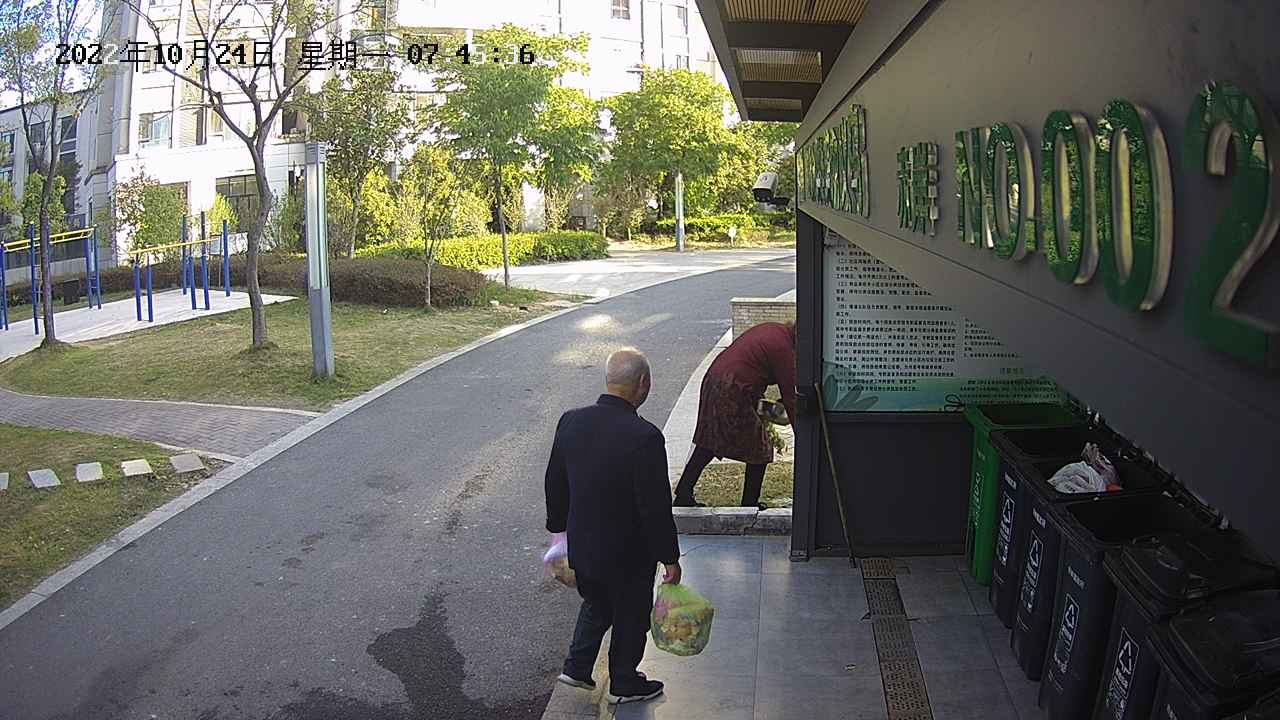garbage-bag: (648, 579, 718, 658), (540, 528, 581, 593)
person: (540, 341, 687, 708), (669, 312, 802, 515)
